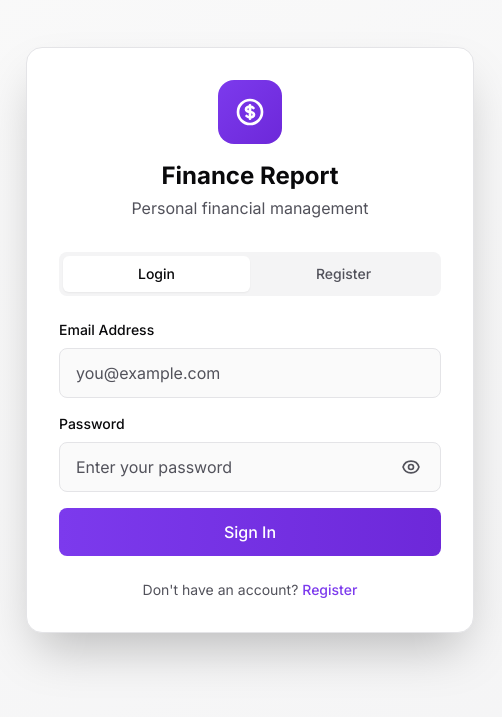
Test case: LoginPage › AC16.12.7 shows API error and exits loading state
The width and height of the screenshot is (502, 717).
Type "bad@example.com" into the field labelled "Email Address" at (250, 373), box [59,348,441,398]
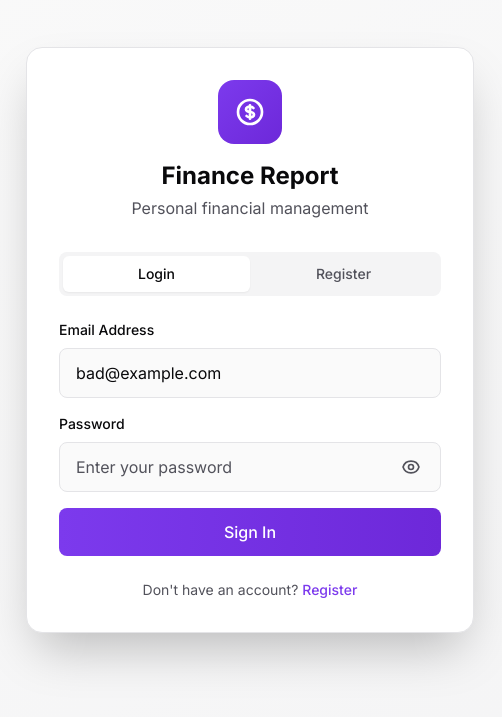
Type "password123" into the password field labelled "Password" at (250, 467), box [59,442,441,492]
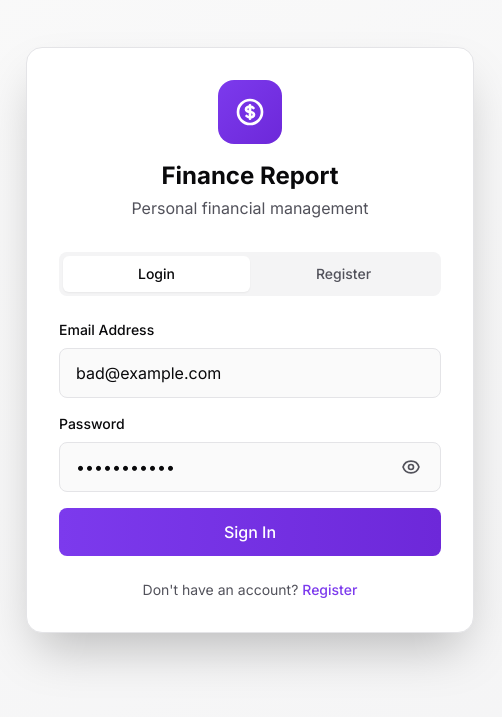
Click the button "Sign In" at (250, 532), box [59,508,441,556]
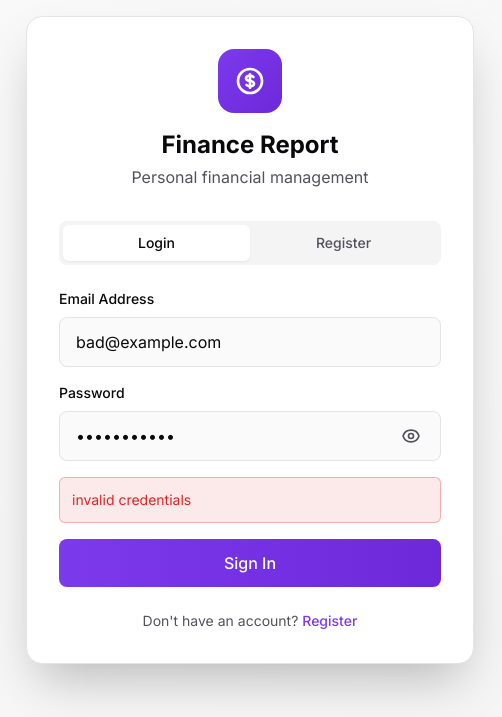
Check: the button "Sign In" is shown, box [59,539,441,587]
Check: the text "invalid credentials" is shown, box [59,477,441,523]
